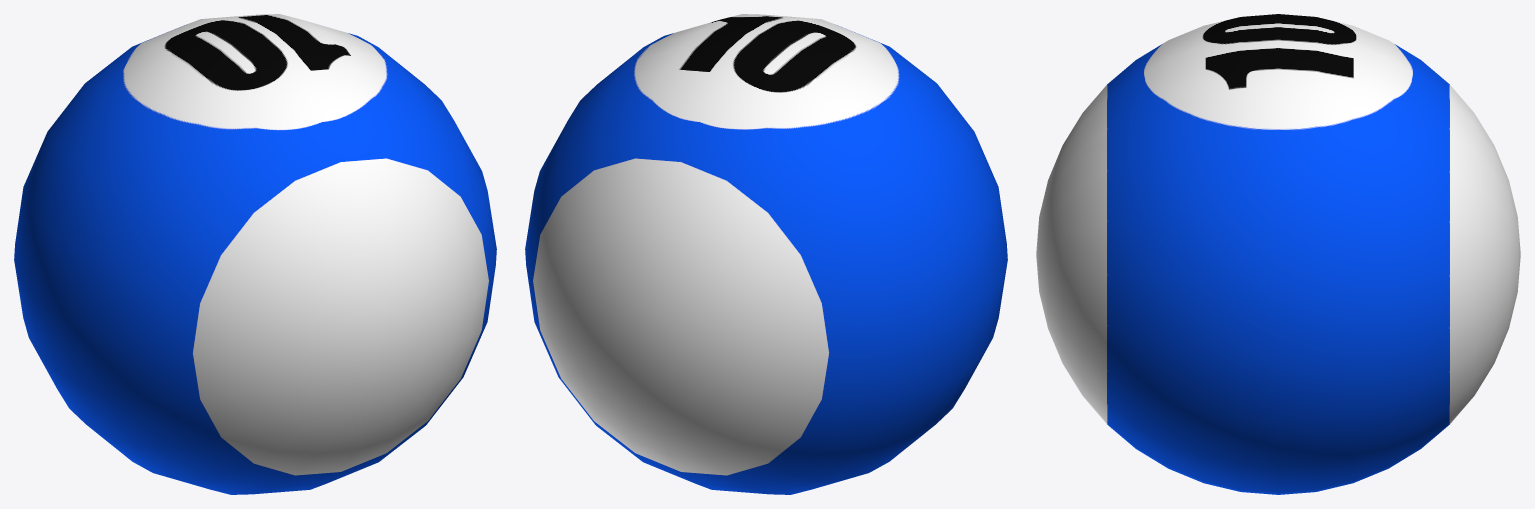
The model's file is ball10.fbx.
3 views of the same model, side by side, from view 1: azimuth 30°, elevation 25°; view 2: azimuth 150°, elevation 25°; view 3: azimuth 270°, elevation 25° (orthographic).
Parts seen in each view (by area): view 1: pSphere1; view 2: pSphere1; view 3: pSphere1.
Part boxes in pixels (box(x1,y1,x2,y2)): pSphere1: box(14, 14, 496, 494); pSphere1: box(525, 14, 1007, 494); pSphere1: box(1036, 14, 1520, 494).
Bounding box in the file's own units: 2 × 2 × 2.
